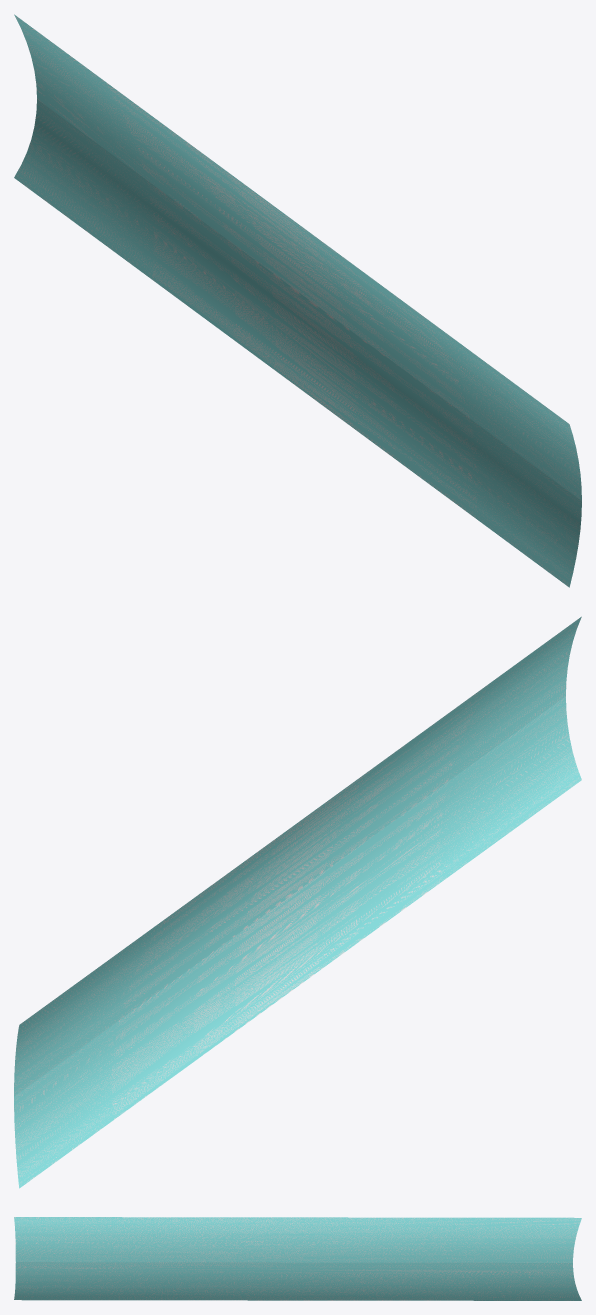
File: original-15.obj
The picture shows the model from 3 angles, top to bottom: view 1: azimuth 30°, elevation 25°; view 2: azimuth 150°, elevation 25°; view 3: azimuth 270°, elevation 25°; orthographic projection. The views are drawn at different scales.
Visible parts, largest first — view 1: mesh26/mesh26-geometry#mesh26-geometry; view 2: mesh26/mesh26-geometry#mesh26-geometry; view 3: mesh26/mesh26-geometry#mesh26-geometry.
Boxes of the visible parts, x1,y1,x2,y2 form: mesh26/mesh26-geometry#mesh26-geometry: [14, 14, 581, 587]; mesh26/mesh26-geometry#mesh26-geometry: [14, 616, 581, 1188]; mesh26/mesh26-geometry#mesh26-geometry: [14, 1217, 581, 1300].
Bounding box in the file's own units: 0.0195 × 0.174 × 1.08.
